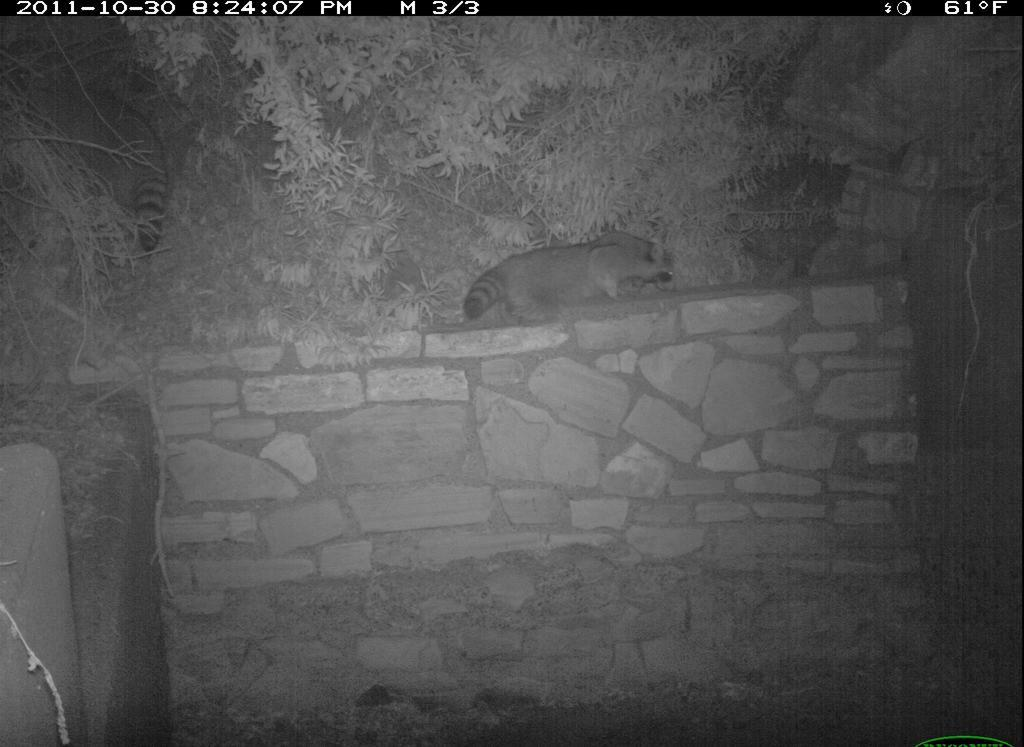raccoon: (52, 39, 189, 262), (452, 222, 701, 337)
